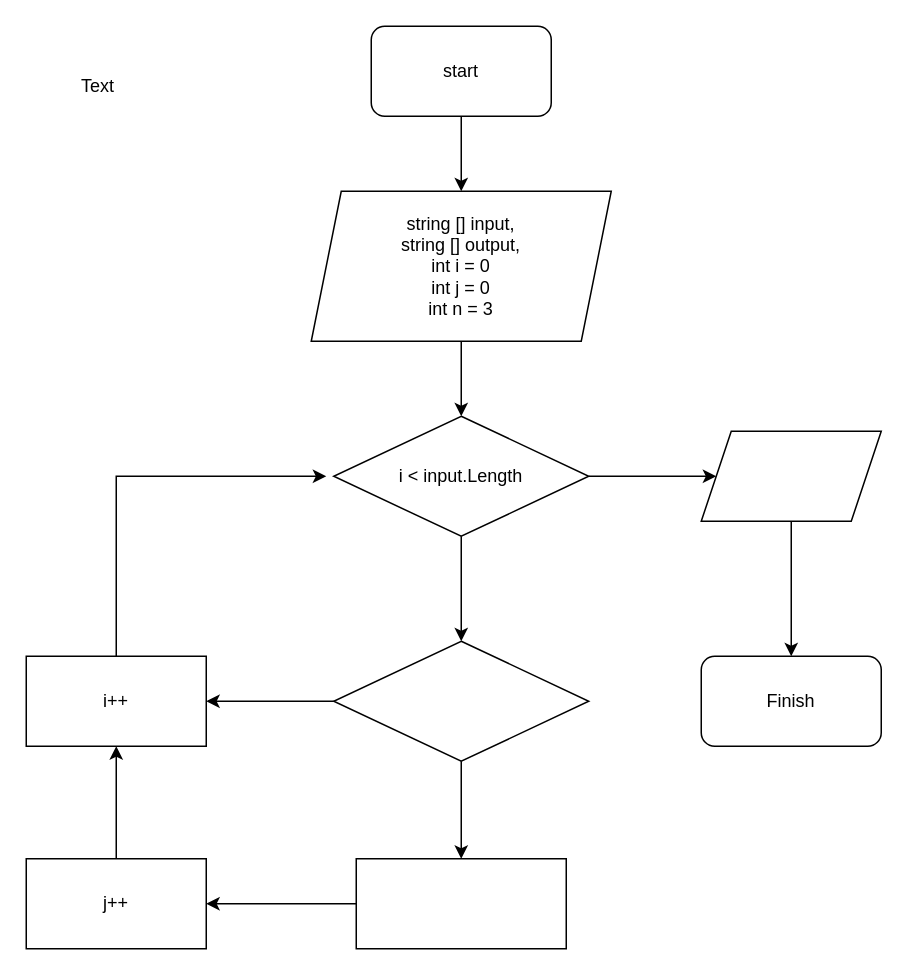
Some shapes in this 908 by 975 pixel diagram are drawn without their labels. Each missing label, with the centre of its shape:
"input[i].Length <= n" belongs at point 460,700.
"output" belongs at point 790,475.
"output [j] = input [i]" belongs at point 460,903.
